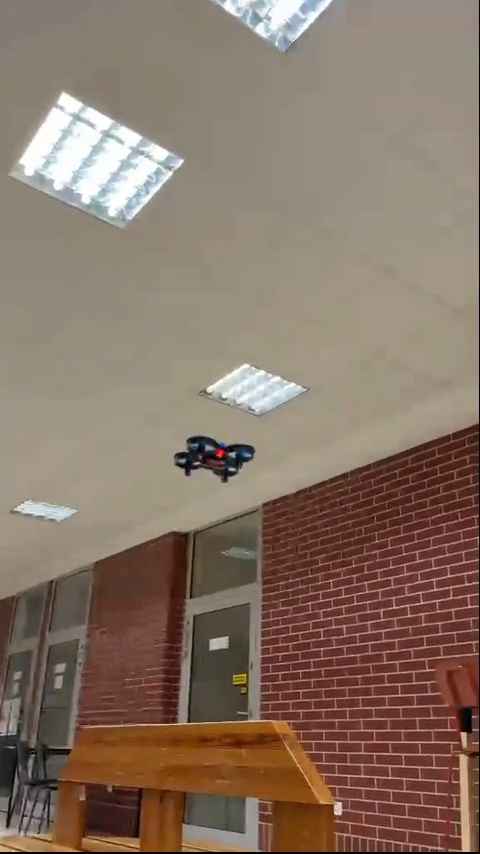drone: (175, 436, 258, 481)
